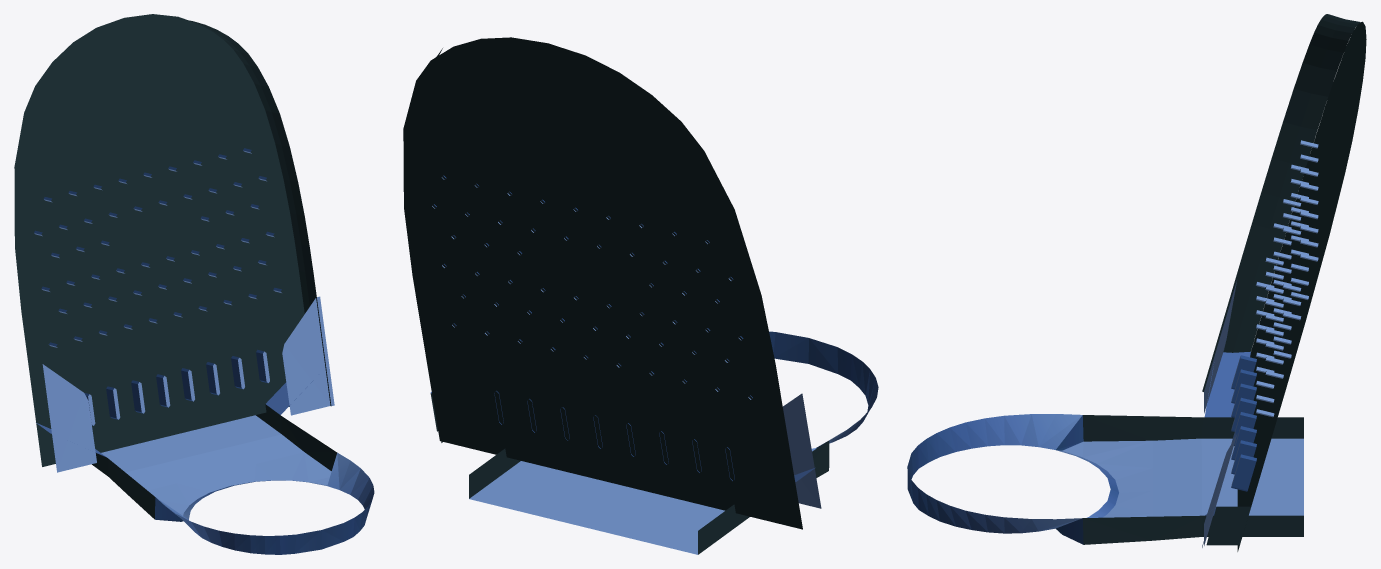
The model's file is fullcollision.glb.
3 views of the same model, side by side, from view 1: azimuth 30°, elevation 25°; view 2: azimuth 150°, elevation 25°; view 3: azimuth 270°, elevation 25° (orthographic). The views are drawn at different scales.
Parts seen in each view (by area): view 1: Circle, Table_EDIT, Circle.001, Grid.001, obstacle_Pin_LOW; view 2: Circle, Table_EDIT; view 3: Table_EDIT, Circle, Circle.001, obstacle_Pin_LOW, Grid.001.
Part boxes in pixels (x1=…): Circle: x1=14, y1=14, x2=330, y2=472; Table_EDIT: x1=36, y1=380, x2=374, y2=554; Circle.001: x1=175, y1=18, x2=334, y2=406; Grid.001: x1=84, y1=349, x2=269, y2=425; obstacle_Pin_LOW: x1=34, y1=148, x2=283, y2=347; Circle: x1=403, y1=37, x2=821, y2=529; Table_EDIT: x1=430, y1=331, x2=878, y2=554; Table_EDIT: x1=907, y1=351, x2=1303, y2=545; Circle: x1=1204, y1=21, x2=1366, y2=551; Circle.001: x1=1202, y1=14, x2=1361, y2=547; obstacle_Pin_LOW: x1=1256, y1=140, x2=1318, y2=417; Grid.001: x1=1231, y1=355, x2=1256, y2=491.
Size of the model in its own units: 10.89 by 14.87 by 13.38.
1 material, 1 textured.
